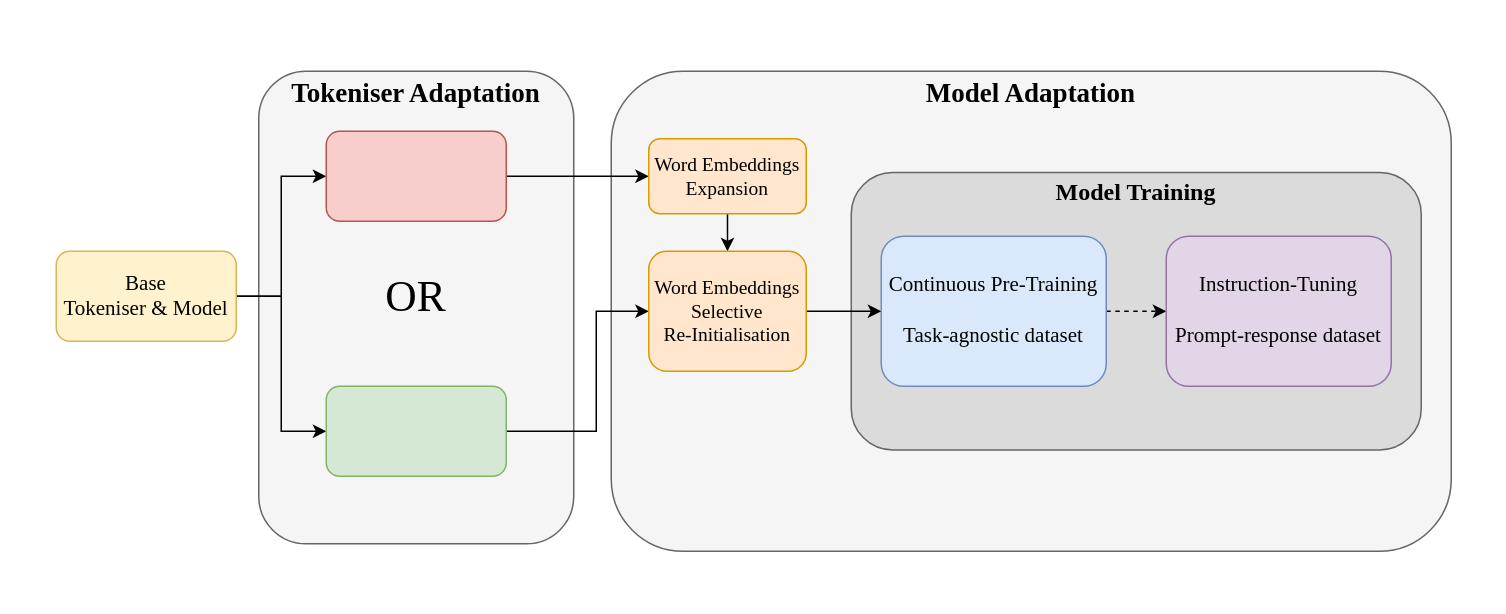
The diagram is 1506 pixels wide and 614 high, and some of its shapes have lost their labels. The shapes that lost their labels are listed below. From the top down, each one's centre as x and y in pixels, then its label:
At point (415, 175): "Token Addition".
At point (415, 430): "Token Replacement".
